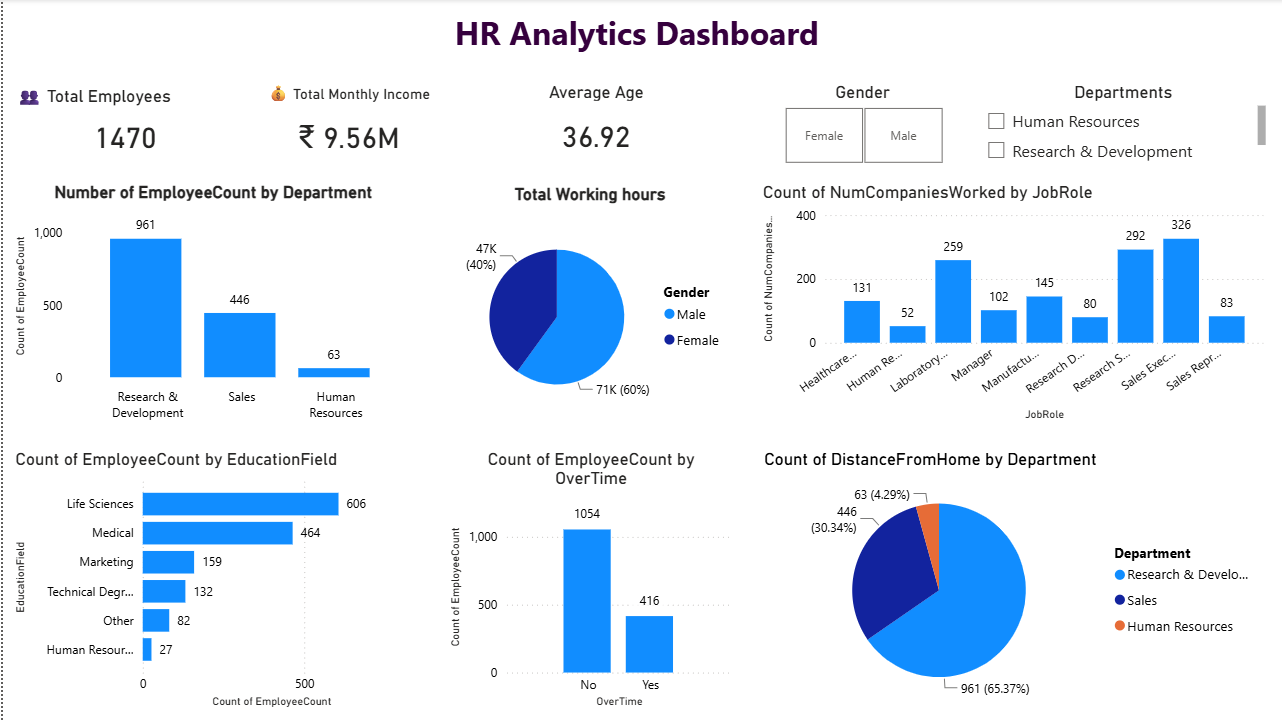

What the dashboard file says about the page in this screenshot:
{"tool":"powerbi","page":{"name":"Page 1","canvas":[1280,720],"ordinal":0},"visuals":[{"type":"card","title":"👥 Total Employees","fields":{"Values":["CountNonNull(HR_Analytics csv.EmployeeCount)"]},"box":[8.4,82.7,226.5,88.7],"z":1000},{"type":"textbox","box":[0,6.7,1261.7,63.3],"z":2000},{"type":"card","title":"💰 Total Monthly Income","fields":{"Values":["Sum(HR_Analytics csv.MonthlyIncome)"]},"box":[249.3,82.7,190.6,91.1],"z":4000},{"type":"clusteredColumnChart","title":"Number of EmployeeCount by Department","fields":{"Category":["HR_Analytics csv.Department"],"Y":["CountNonNull(HR_Analytics csv.EmployeeCount)"]},"box":[8,182,404,246],"z":6000},{"type":"pieChart","title":"Total Working hours","fields":{"Category":["HR_Analytics csv.Gender"],"Y":["Sum(HR_Analytics csv.StandardHours)"]},"box":[440,184,288,246],"z":7000},{"type":"clusteredBarChart","fields":{"Category":["HR_Analytics csv.EducationField"],"Y":["CountNonNull(HR_Analytics csv.EmployeeCount)"]},"box":[8,448,404,262],"z":8000},{"type":"lineStackedColumnComboChart","fields":{"Category":["HR_Analytics csv.OverTime"],"Y":["CountNonNull(HR_Analytics csv.EmployeeCount)"]},"box":[439.9,448.2,290,262.5],"z":9000},{"type":"pieChart","fields":{"Category":["HR_Analytics csv.Department"],"Y":["CountNonNull(HR_Analytics csv.DistanceFromHome)"]},"box":[752.7,448.2,508.2,262.5],"z":10000},{"type":"clusteredColumnChart","fields":{"Category":["HR_Analytics csv.JobRole"],"Y":["CountNonNull(HR_Analytics csv.NumCompaniesWorked)"]},"box":[751.8,181.5,508.3,243.5],"z":11000},{"type":"card","title":"Average Age","fields":{"Values":["HR_Analytics csv.Average Age"]},"box":[452,82,278,88],"z":11001},{"type":"slicer","title":"Gender","fields":{"Values":["HR_Analytics csv.Gender"]},"box":[752,82,206,88],"z":11002},{"type":"slicer","title":"Departments","fields":{"Values":["HR_Analytics csv.Department"]},"box":[968,82,294,88],"z":11003}]}

Visuals, with their boxes in screenshot pixels (x1, y1, x2, y2), scaled from the page's 1280x720 canvas onto the 1282x720 screenshot:
"👥 Total Employees" card: box(8, 83, 235, 171)
textbox: box(0, 7, 1264, 70)
"💰 Total Monthly Income" card: box(250, 83, 441, 174)
"Number of EmployeeCount by Department" clusteredColumnChart: box(8, 182, 413, 428)
"Total Working hours" pieChart: box(441, 184, 729, 430)
clusteredBarChart - HR_Analytics csv.EducationField x CountNonNull(HR_Analytics csv.EmployeeCount): box(8, 448, 413, 710)
lineStackedColumnComboChart - HR_Analytics csv.OverTime x CountNonNull(HR_Analytics csv.EmployeeCount): box(441, 448, 731, 711)
pieChart - HR_Analytics csv.Department x CountNonNull(HR_Analytics csv.DistanceFromHome): box(754, 448, 1263, 711)
clusteredColumnChart - HR_Analytics csv.JobRole x CountNonNull(HR_Analytics csv.NumCompaniesWorked): box(753, 182, 1262, 425)
"Average Age" card: box(453, 82, 731, 170)
"Gender" slicer: box(753, 82, 959, 170)
"Departments" slicer: box(970, 82, 1264, 170)
